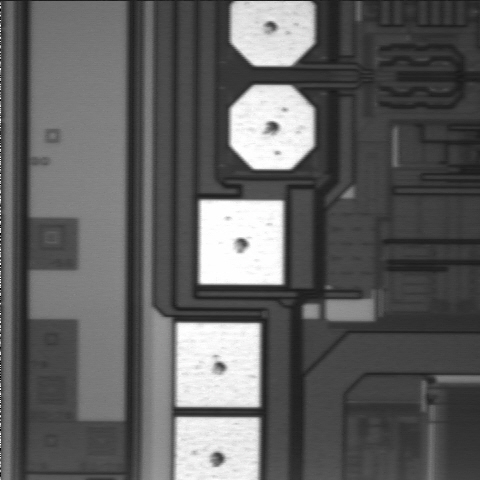pad: (199, 200, 283, 285), (230, 85, 314, 169), (176, 323, 260, 407)
